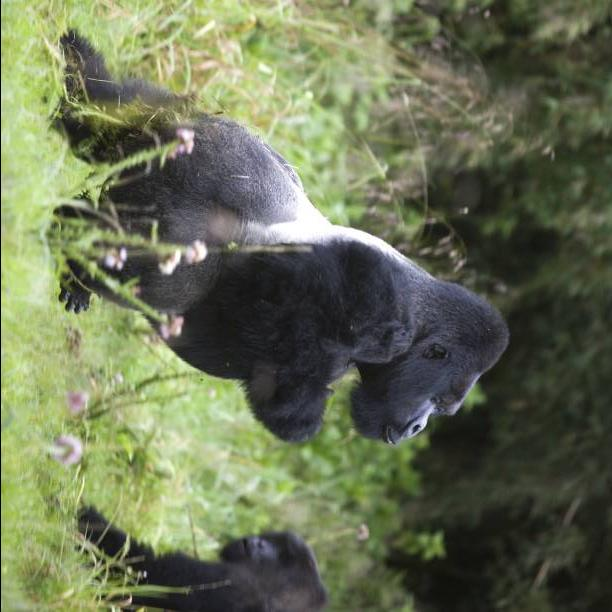goriile_montagne: (30, 55, 526, 468), (83, 504, 326, 612)
